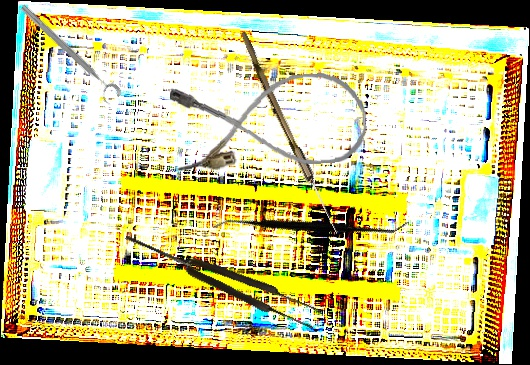Cannula: (169, 70, 369, 174)
Fixation Ring: (12, 1, 124, 108)
Spatula Surgical: (212, 140, 409, 310)
Surgical Spoon: (235, 31, 343, 236)
Tissue Forceps: (121, 223, 322, 333)
